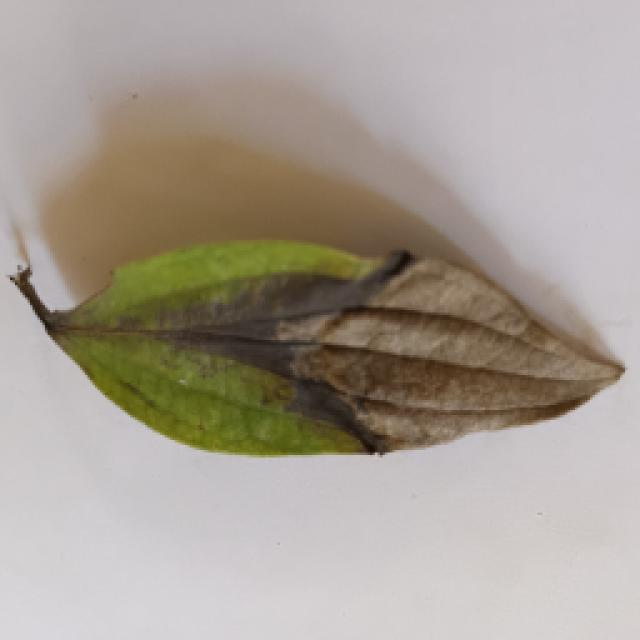footrot: (10, 235, 618, 453)
